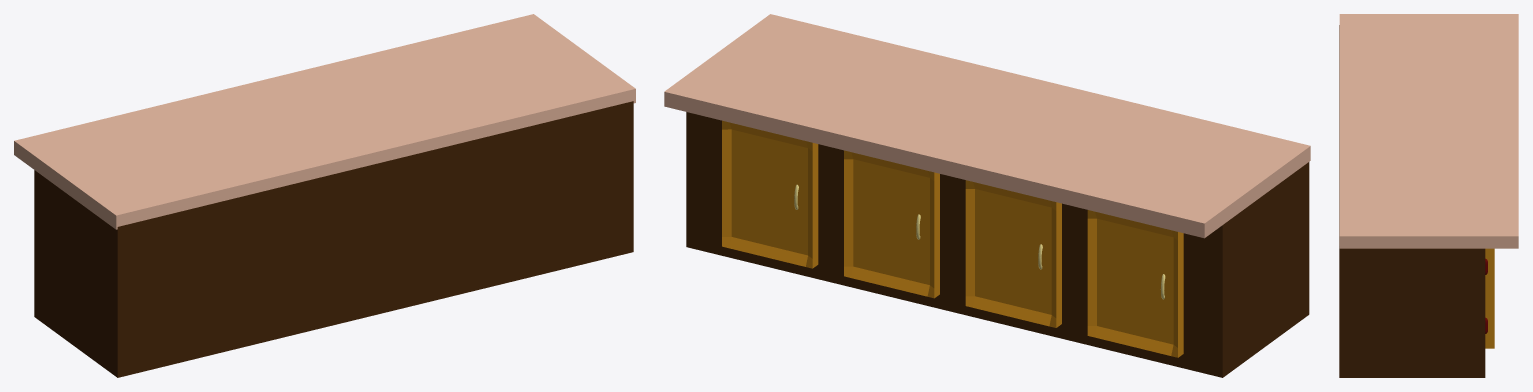
The model's file is furniture_counter.fbx.
The picture shows the model from 3 angles, left to right: view 1: azimuth 30°, elevation 25°; view 2: azimuth 150°, elevation 25°; view 3: azimuth 270°, elevation 25°; orthographic projection. The views are drawn at different scales.
Parts seen in each view (by area): view 1: Cube, Cube.001; view 2: Cube.001, Cube, Cube.005, Cube.003, Cube.002, Cube.004; view 3: Cube.001, Cube, Cube.003.
Part boxes in pixels (box(x1,y1,x2,y2)): Cube: box(34, 101, 633, 377); Cube.001: box(14, 14, 635, 229); Cube.001: box(664, 14, 1310, 238); Cube: box(686, 112, 1309, 377); Cube.005: box(965, 180, 1061, 327); Cube.003: box(722, 120, 818, 268); Cube.002: box(1087, 210, 1183, 357); Cube.004: box(844, 150, 939, 298); Cube.001: box(1339, 14, 1518, 248); Cube: box(1339, 25, 1485, 377); Cube.003: box(1485, 248, 1494, 348).
Bounding box in the file's own units: 2218 × 664 × 756.
